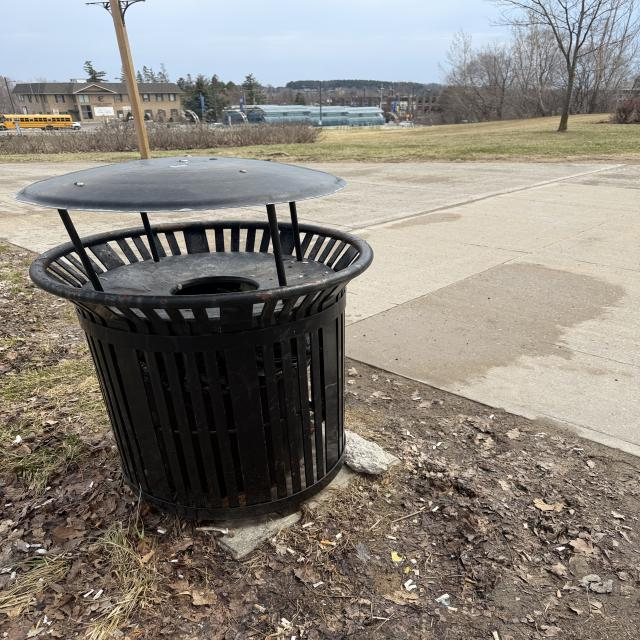Dustbin: (17, 155, 373, 524)
